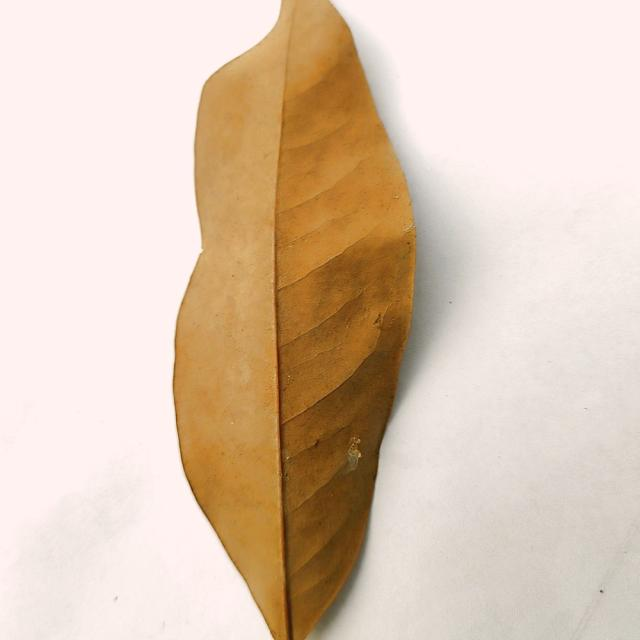Dry_Leaf-Lychee: (172, 0, 419, 639)
